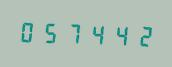five: (39, 18, 60, 46)
four: (84, 19, 105, 47), (106, 20, 127, 48)
seven: (62, 19, 83, 46)
two: (128, 21, 149, 49)
zero: (17, 17, 38, 45)
